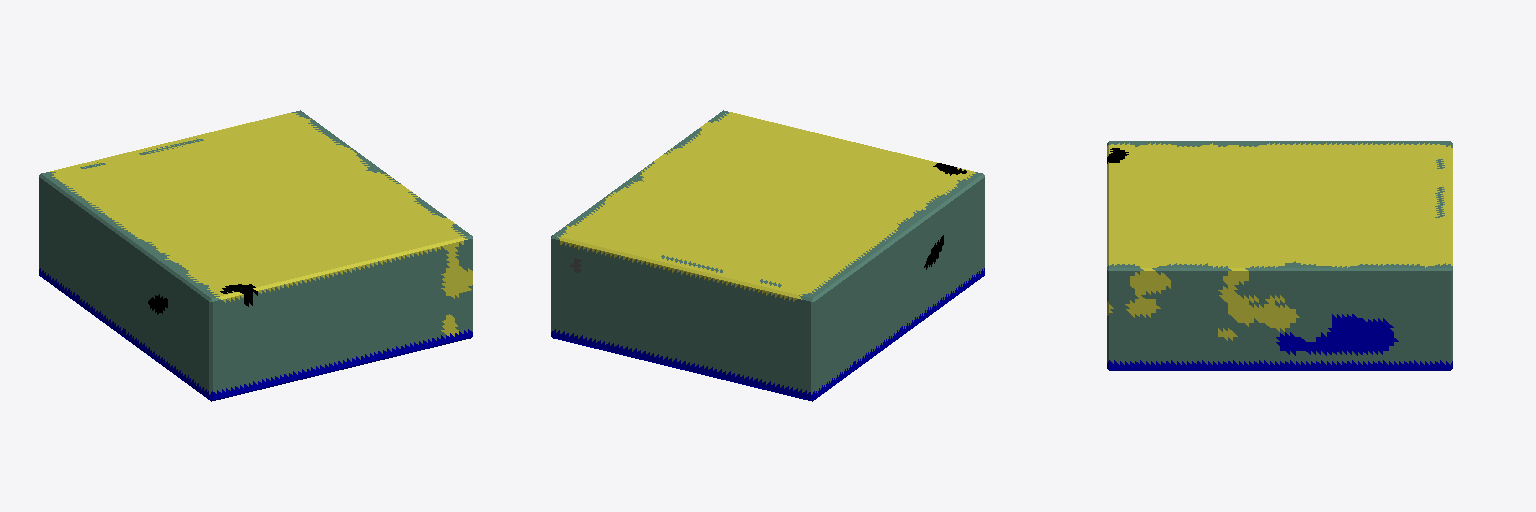
The picture shows the model from 3 angles: view 1: azimuth 30°, elevation 25°; view 2: azimuth 150°, elevation 25°; view 3: azimuth 270°, elevation 25°; orthographic projection.
Parts seen in each view (by area): view 1: Input_prediction_mesh; view 2: Input_prediction_mesh; view 3: Input_prediction_mesh.
Boxes of the visible parts, box(x1,y1,x2,y2) form: Input_prediction_mesh: box(39, 110, 472, 401); Input_prediction_mesh: box(551, 110, 984, 401); Input_prediction_mesh: box(1107, 141, 1452, 370).
Bounding box in the file's own units: 4.72 × 1.76 × 5.36.